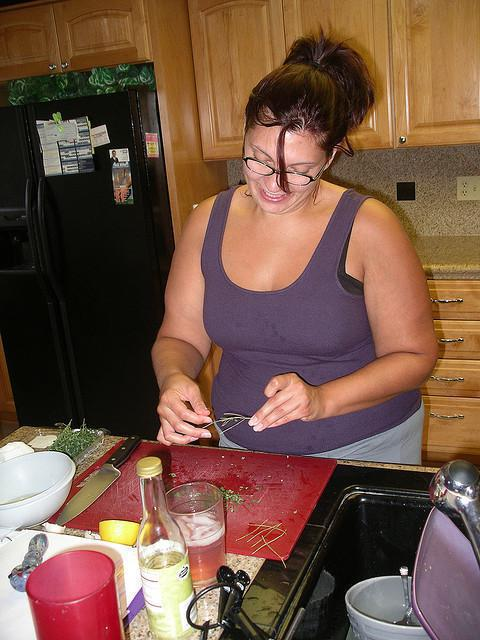Lavaplatos: (249, 431, 479, 639)
